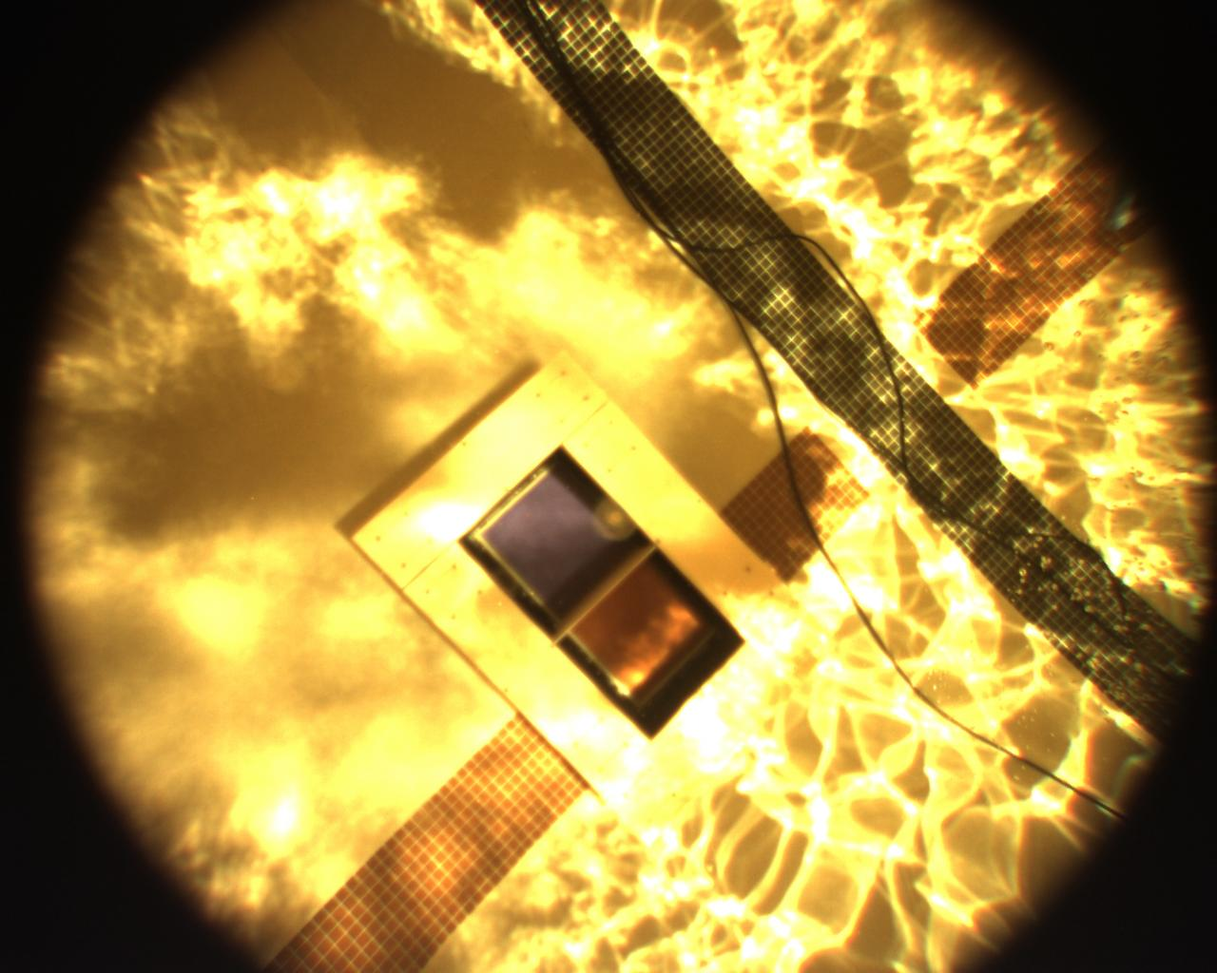dropper-box-top: (356, 358, 807, 832)
